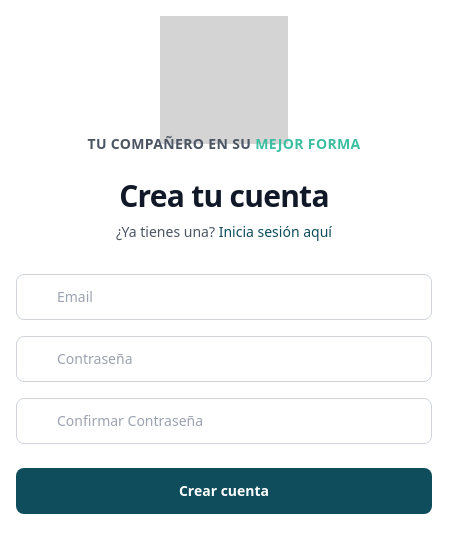
RegisterPage - HU1: Registro de Usuario › muestra "La contraseña debe tener al menos 8 caracteres" con contraseña corta
This screenshot has width=449, height=551.
In the field with placeholder "Email": (224, 297) [16,274,432,320], type "test@test.com"
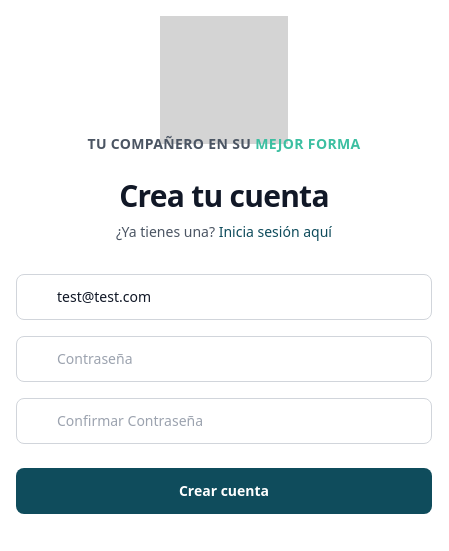
In the password field with placeholder "Contraseña": (224, 359) [16,336,432,382], type "Pass1!"
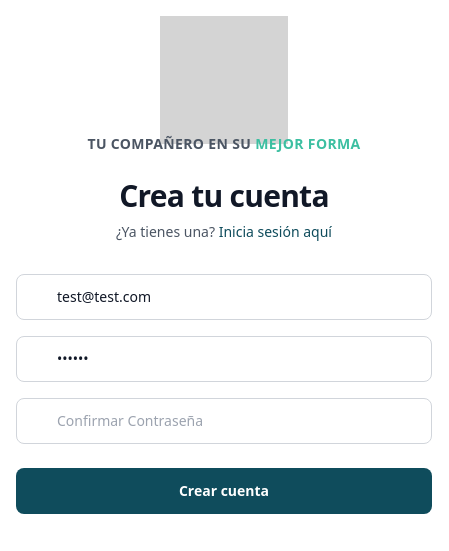
In the password field with placeholder "Confirmar Contraseña": (224, 421) [16,398,432,444], type "Pass1!"
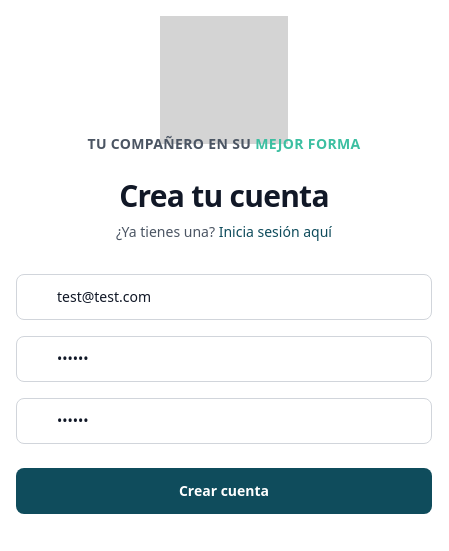
Click the button "Crear cuenta": (224, 491) [16,468,432,514]
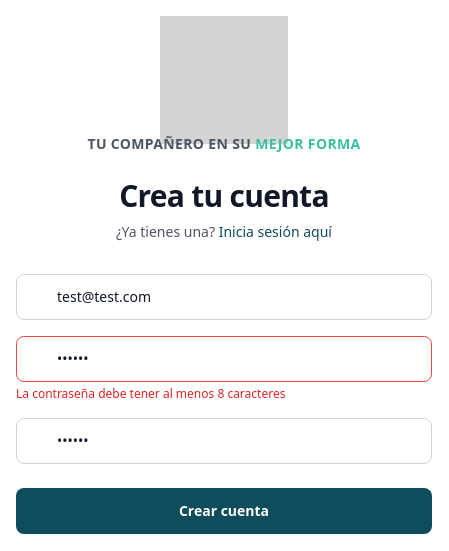
expect the text "La contraseña debe tener al menos 8 caracteres" is shown: met, box [16,385,285,402]
